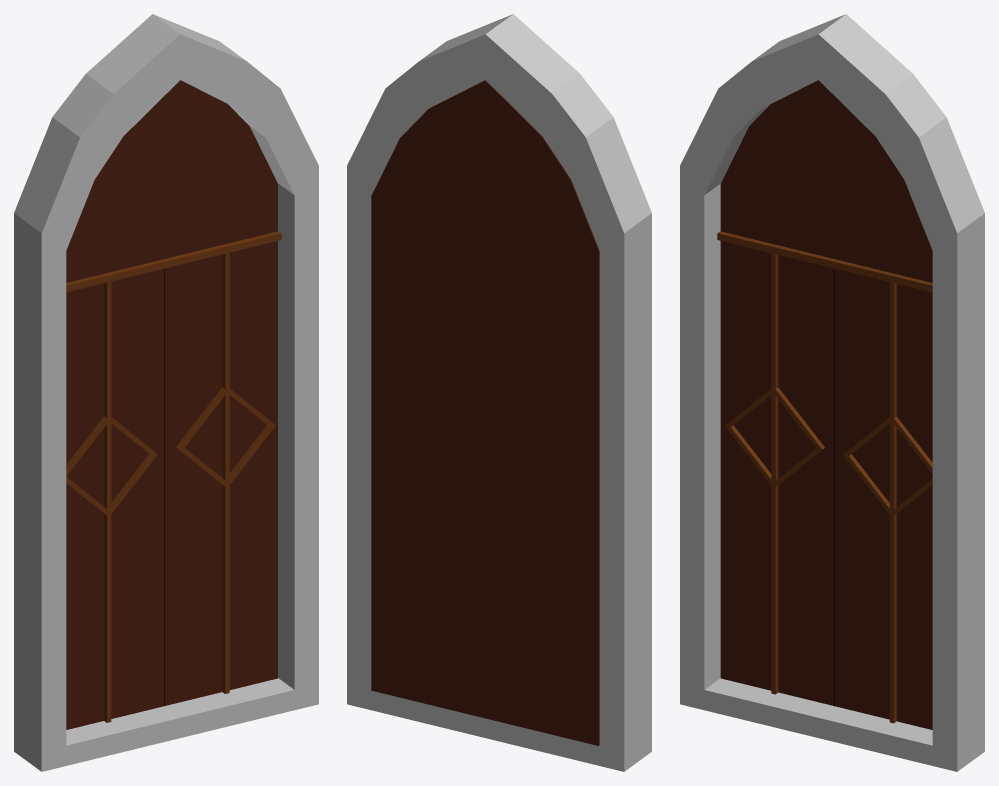
Rendered from Back_two_side_face_door.glb.
3 renders of one model, left to right at view 1: azimuth 30°, elevation 25°; view 2: azimuth 150°, elevation 25°; view 3: azimuth 330°, elevation 25°, orthographic.
Visible parts, largest first — view 1: frame.001; view 2: frame.001; view 3: frame.001.
Part boxes in pixels (bbox=[...]): frame.001: bbox=[14, 14, 318, 771]; frame.001: bbox=[347, 14, 651, 771]; frame.001: bbox=[680, 14, 984, 771].
Size of the model in its own units: 3.02 by 7.32 by 0.5344.
